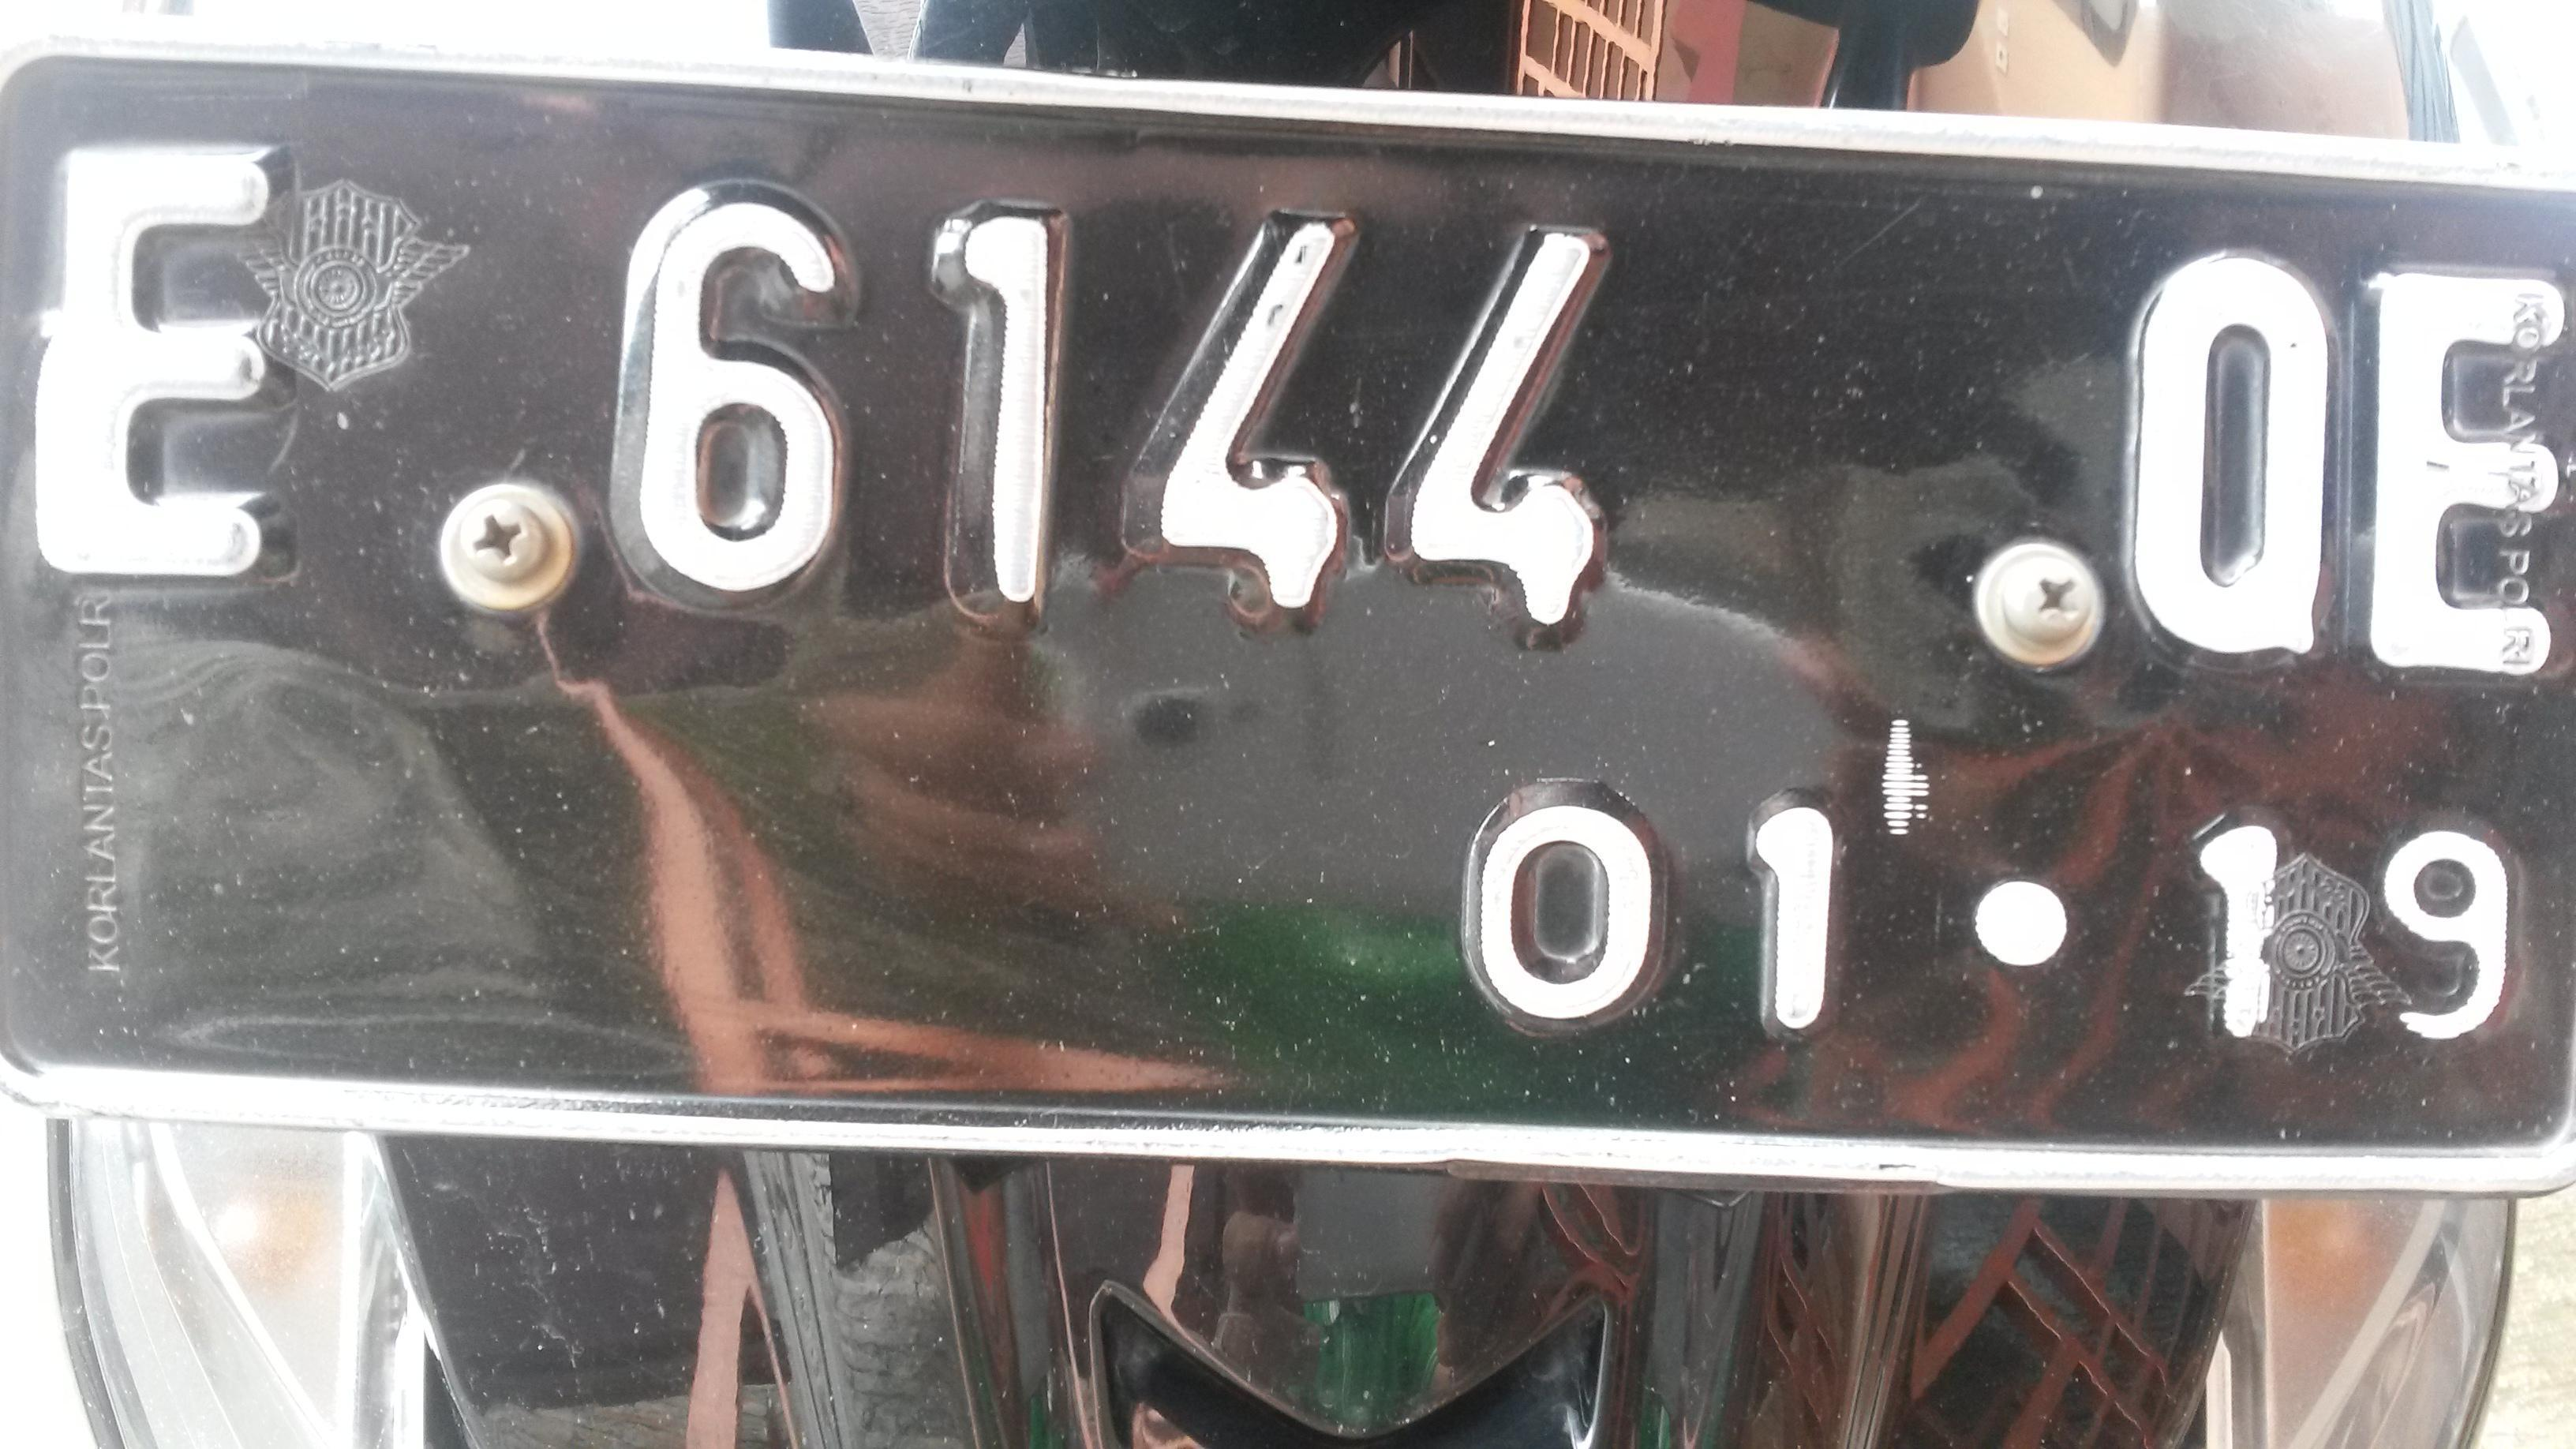1: (878, 186, 1123, 628)
4: (1366, 207, 1635, 658), (1102, 196, 1380, 623)
6: (584, 175, 865, 621)
E: (34, 119, 303, 619), (2344, 244, 2576, 699)
Q: (2068, 228, 2355, 699)
